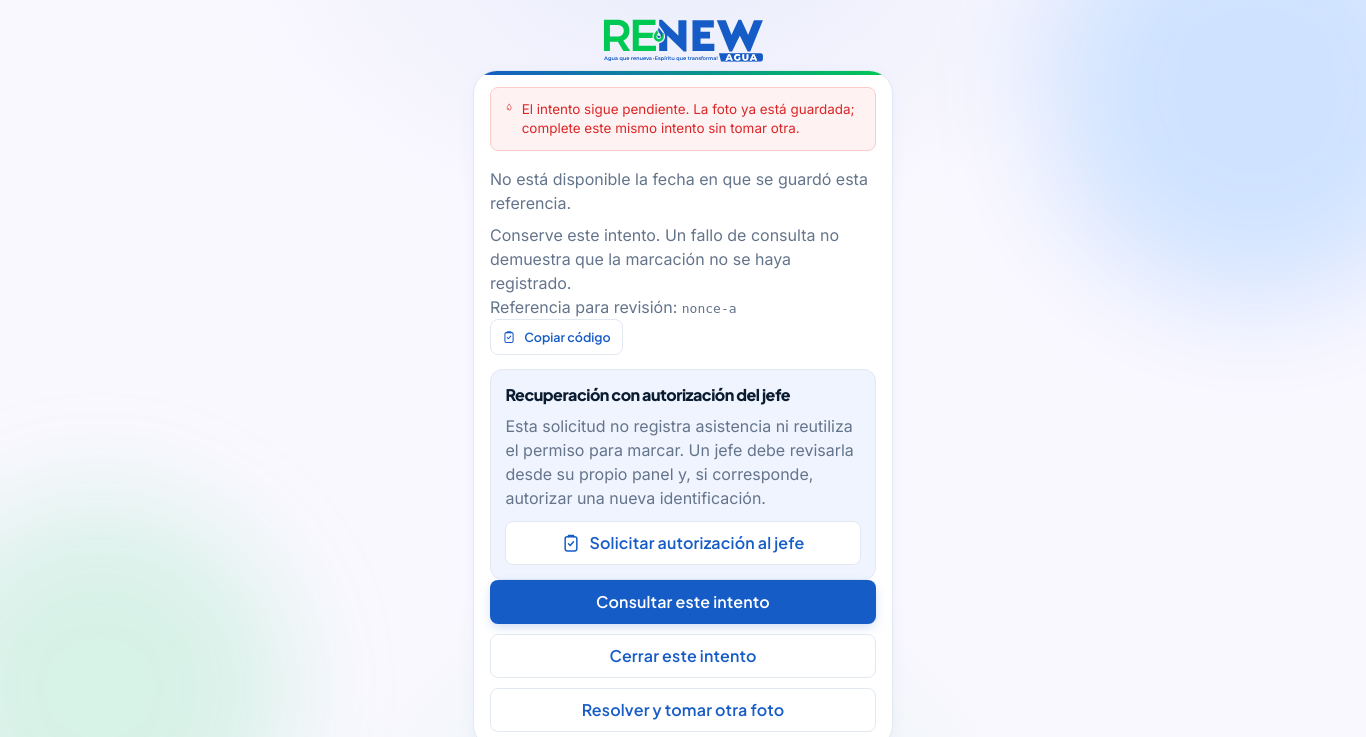
recuperación explícita › una referencia no firmada se conserva para revisión manual y no crea solicitud
The width and height of the screenshot is (1366, 737).
Click the button with test id "kiosk-request-recovery": (683,543) left=505, top=521, right=861, bottom=565
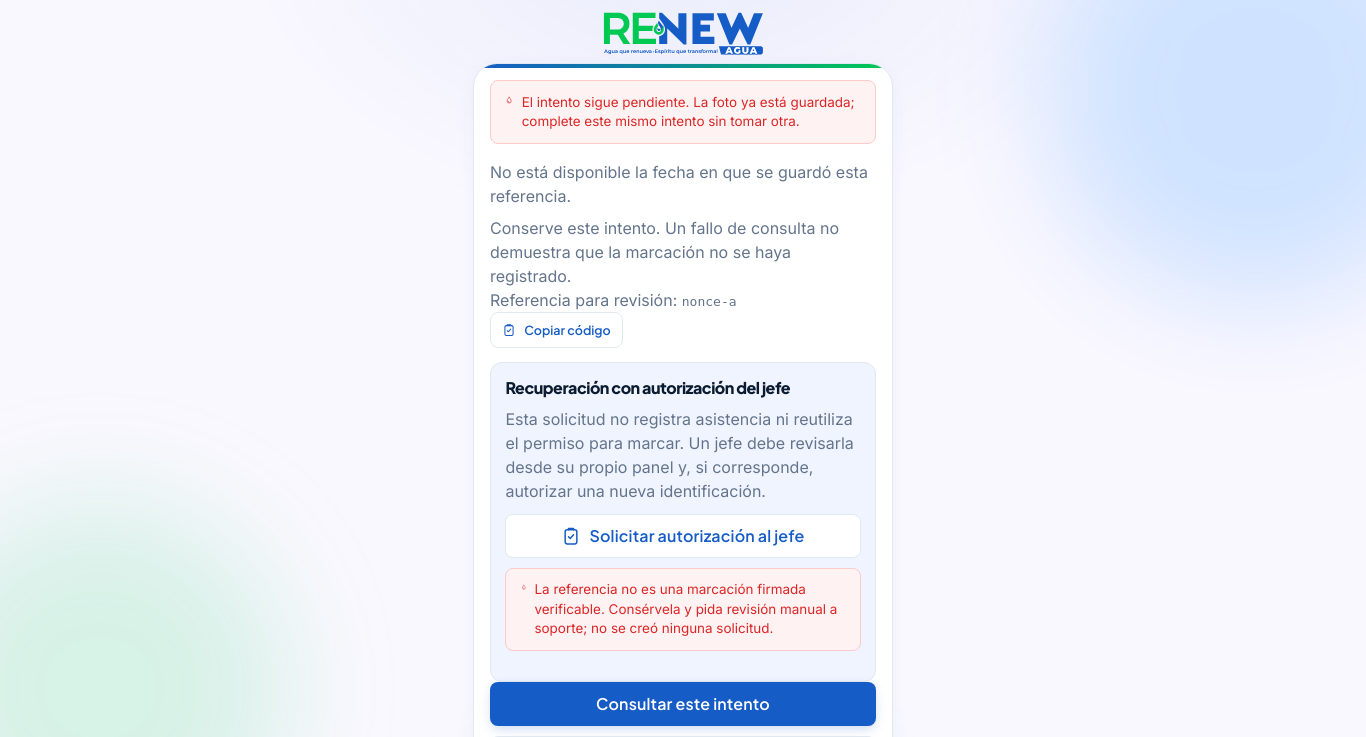
Result: the message with test id "kiosk-recovery-error" shows "revisión manual" at left=534, top=581, right=837, bottom=636
